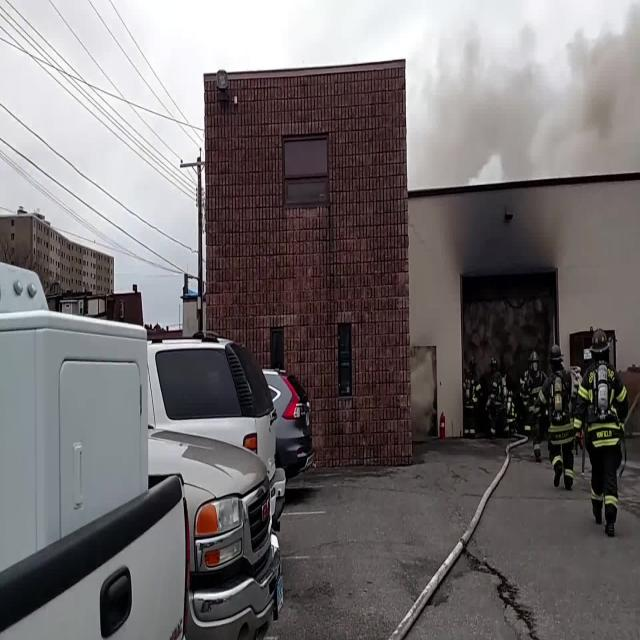Smoke: (404, 0, 640, 190)
